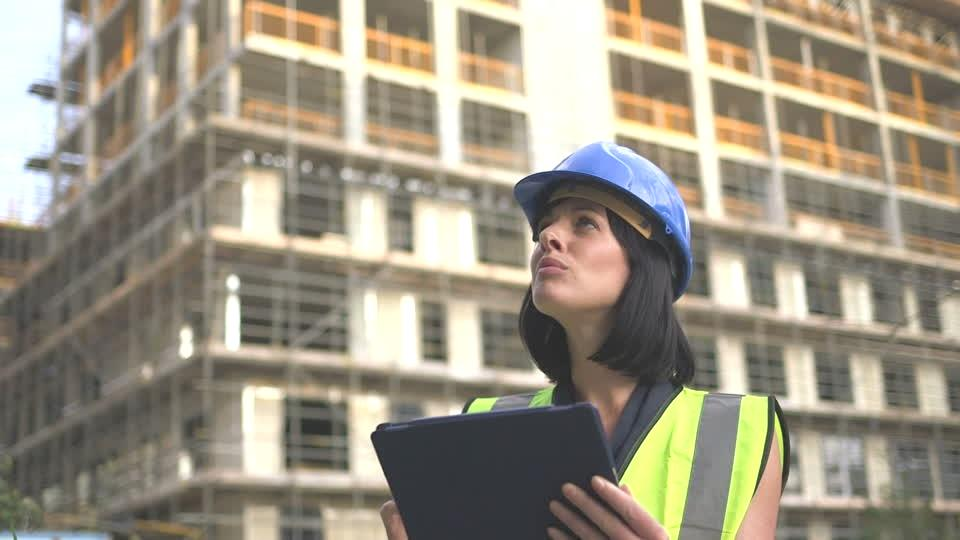helmet: (504, 136, 697, 373)
reflective: (450, 382, 795, 540)
